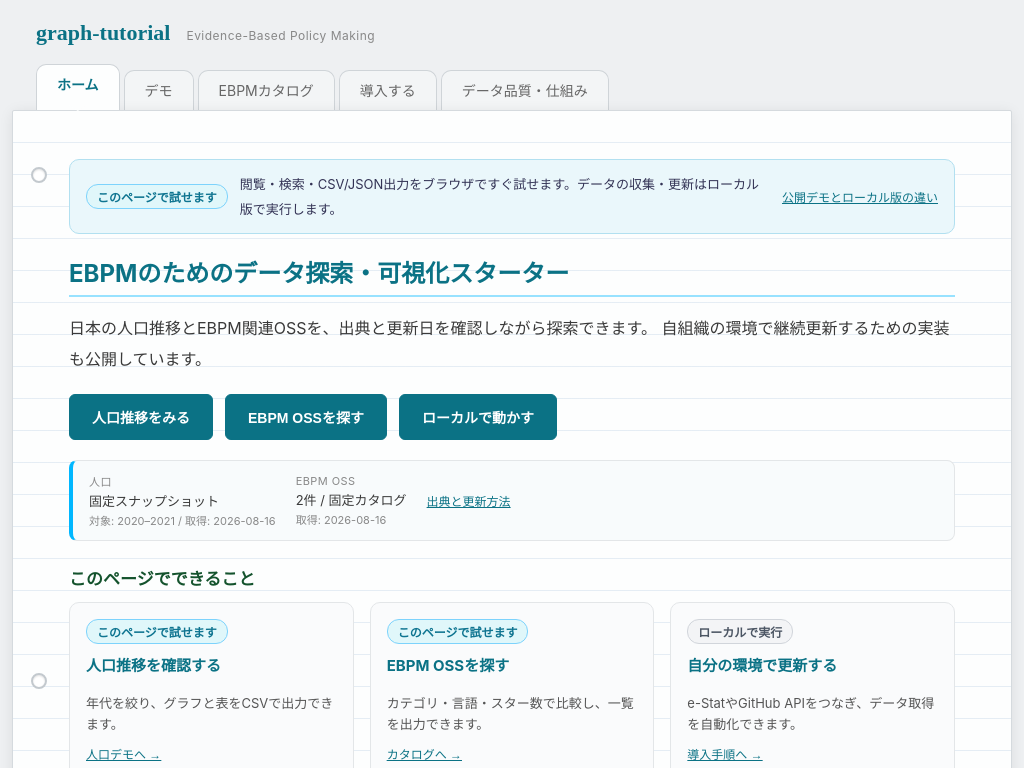
Test: App › 日本の人口（デモ）タブで人口データを表示する
Click the tab "デモ" at (159, 93), box x1=124 y1=70 x2=194 y2=116
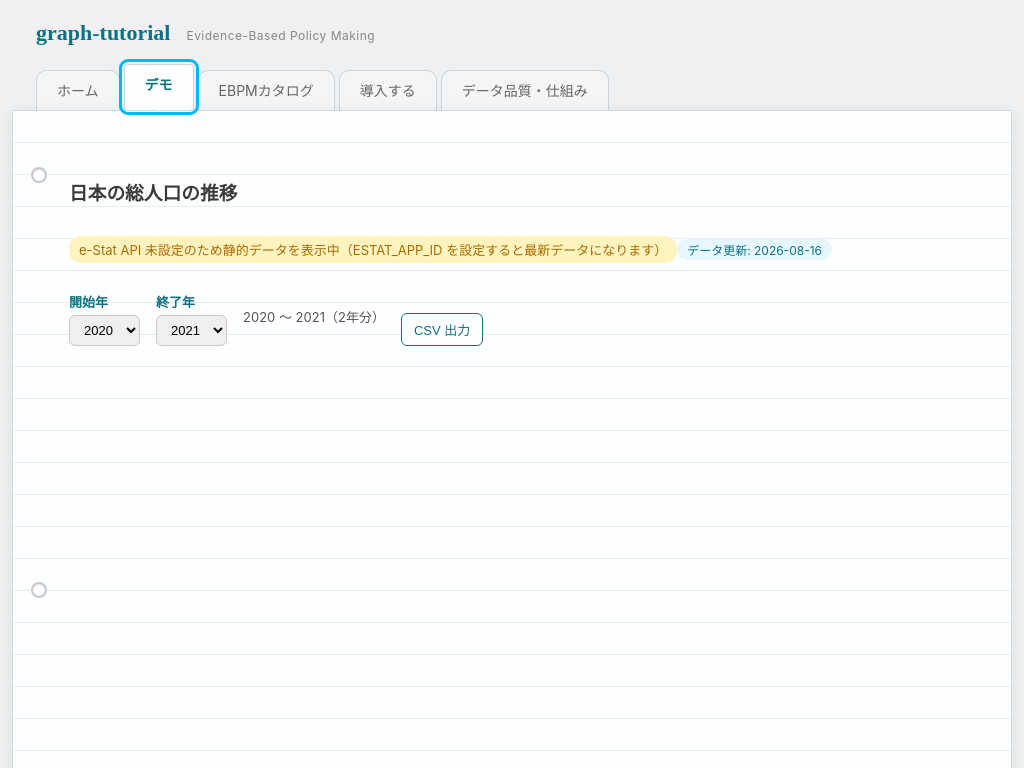
Expected: the heading "日本の総人口の推移" is shown, x1=69 y1=182 x2=237 y2=205
Expected: the text with test id "badge" shows "静的データ", x1=79 y1=242 x2=667 y2=258
